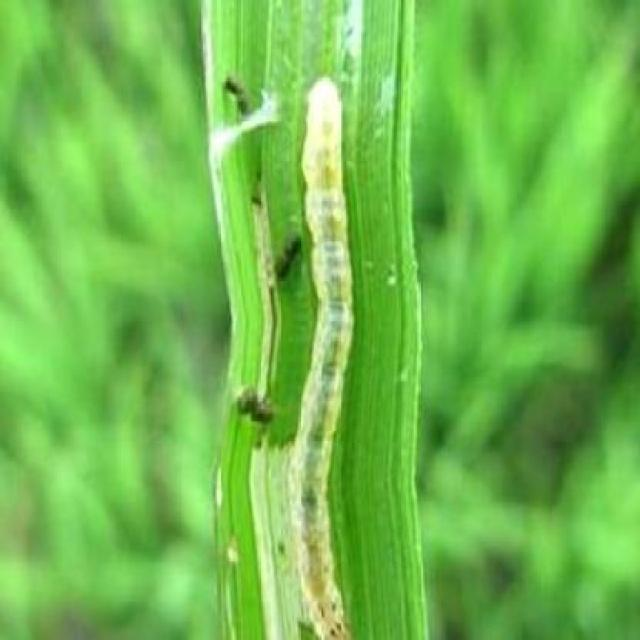leaf-folder: (248, 57, 367, 640)
